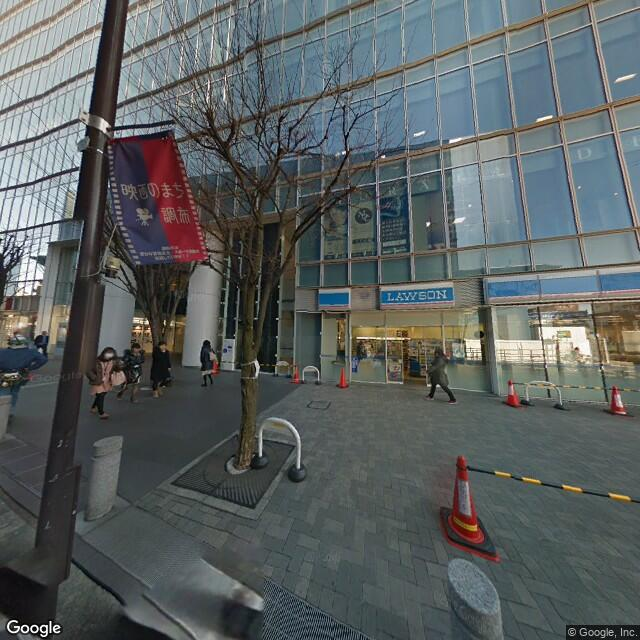lawson: (381, 259, 636, 315)
